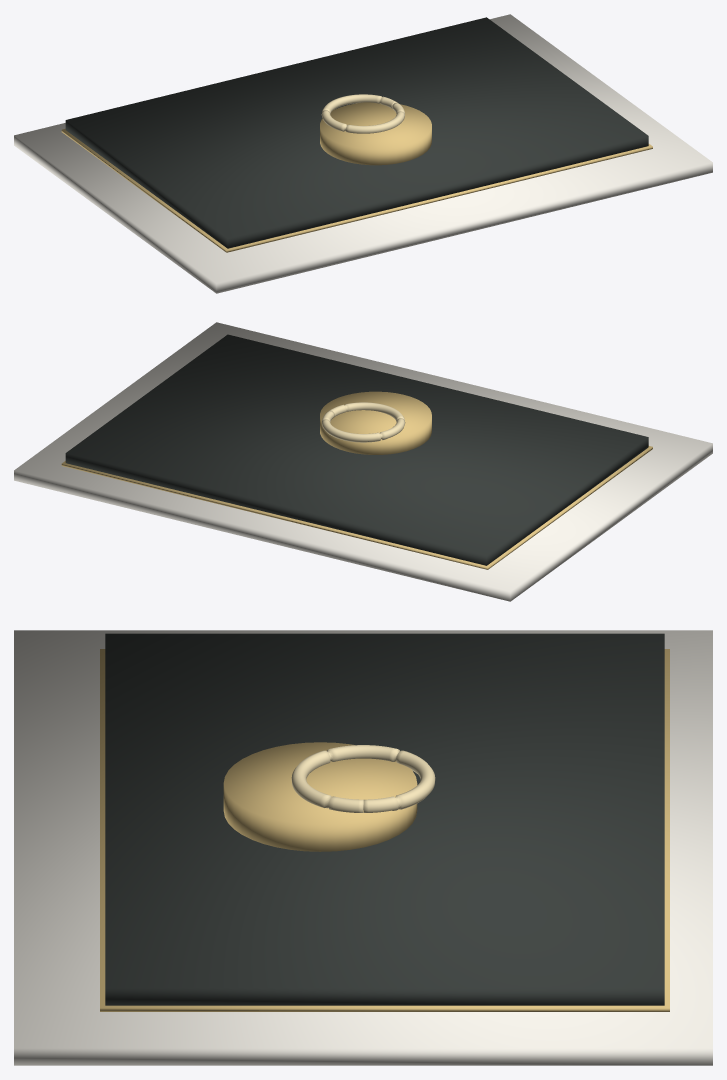
The model's file is invitation-suite.glb.
3 renders of one model, top to bottom at view 1: azimuth 30°, elevation 25°; view 2: azimuth 150°, elevation 25°; view 3: azimuth 270°, elevation 25°, orthographic. The views are drawn at different scales.
Parts seen in each view (by area): view 1: card-1, envelope-0, seal-3, gold-border-2, seal-ring-4; view 2: card-1, envelope-0, seal-3, gold-border-2, seal-ring-4; view 3: card-1, envelope-0, seal-3, gold-border-2, seal-ring-4.
Boxes of the visible parts, x1,y1,x2,y2 form: card-1: (65, 17, 648, 248); envelope-0: (14, 14, 712, 293); seal-3: (320, 102, 431, 165); gold-border-2: (61, 128, 652, 252); seal-ring-4: (321, 94, 404, 133); card-1: (65, 334, 648, 565); envelope-0: (14, 322, 712, 601); seal-3: (320, 391, 431, 454); gold-border-2: (61, 446, 652, 569); seal-ring-4: (322, 402, 405, 442); card-1: (105, 633, 664, 1005); envelope-0: (14, 630, 712, 1065); seal-3: (223, 742, 417, 851); gold-border-2: (100, 649, 669, 1011); seal-ring-4: (291, 745, 435, 812).
Bounding box in the file's own units: 0.92 × 0.086 × 0.65.
